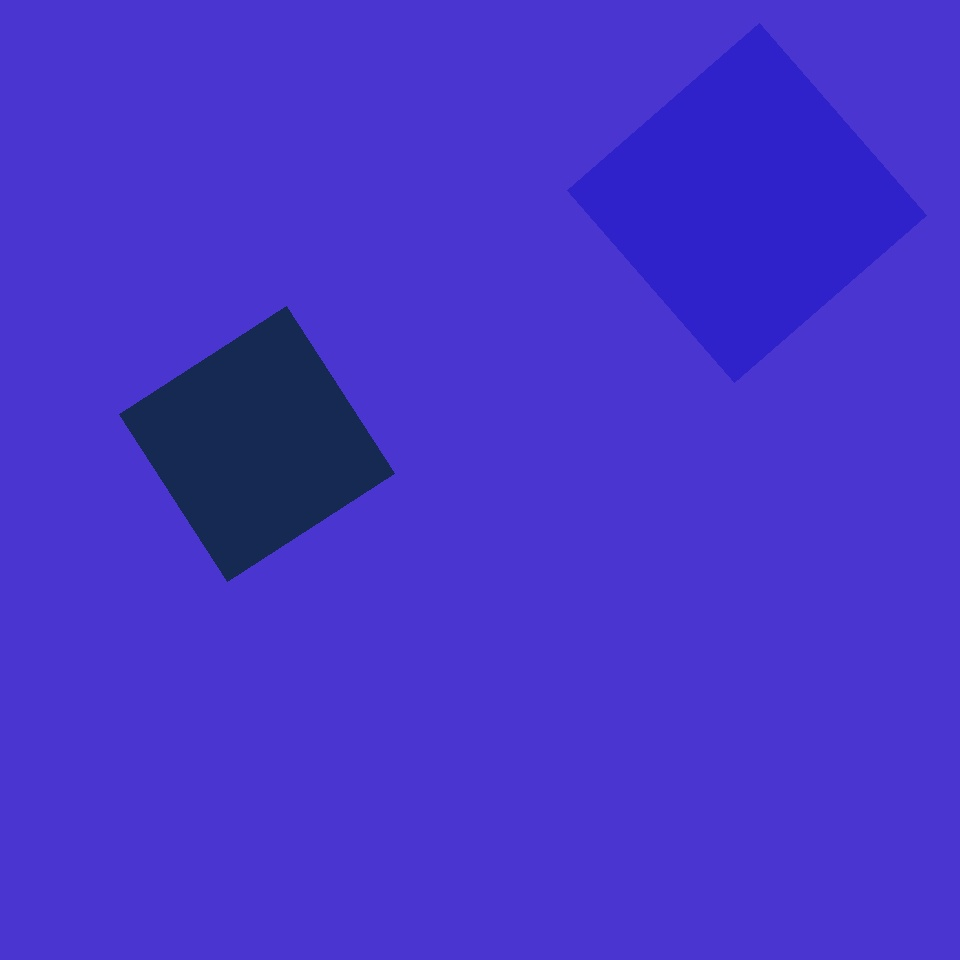circle: (686, 234, 857, 426), (730, 134, 818, 215)
square: (567, 23, 926, 382), (55, 565, 352, 863), (120, 307, 394, 582), (458, 571, 571, 684)
triangle: (610, 26, 780, 197), (754, 531, 921, 698)
